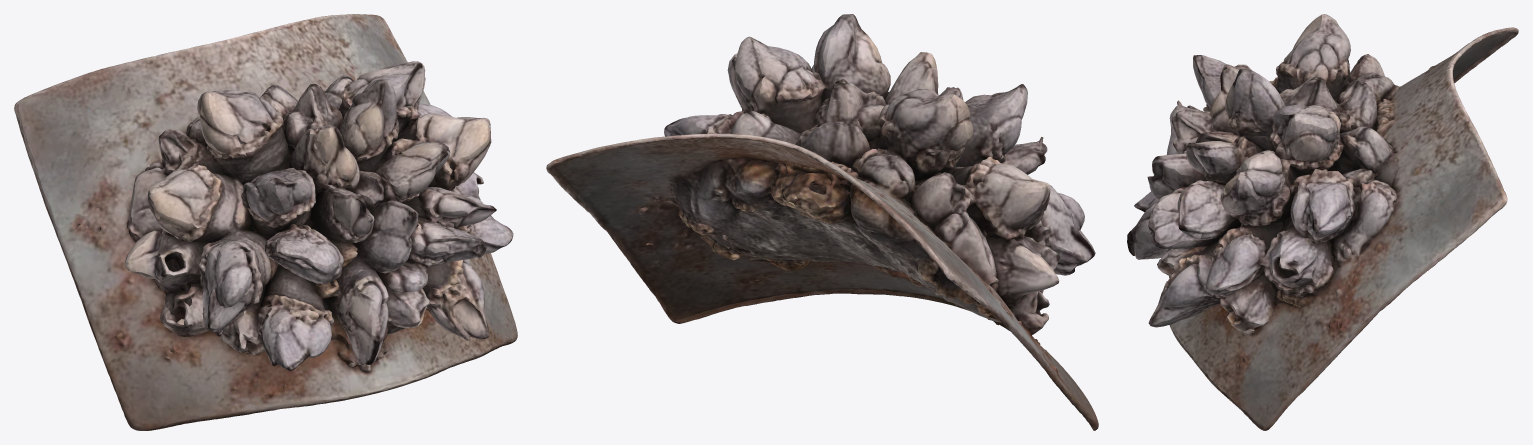
The picture shows the model from 3 angles, left to right: view 1: azimuth 30°, elevation 25°; view 2: azimuth 150°, elevation 25°; view 3: azimuth 270°, elevation 25°; orthographic projection. The views are drawn at different scales.
Parts seen in each view (by area): view 1: geometry_0; view 2: geometry_0; view 3: geometry_0.
Part boxes in pixels (<box>): geometry_0: <box>14,14,517,430</box>; geometry_0: <box>546,14,1098,430</box>; geometry_0: <box>1127,14,1518,430</box>.
Size of the model in its own units: 0.28 by 0.21 by 0.253.
Materials: 1 (1 with a texture image).
